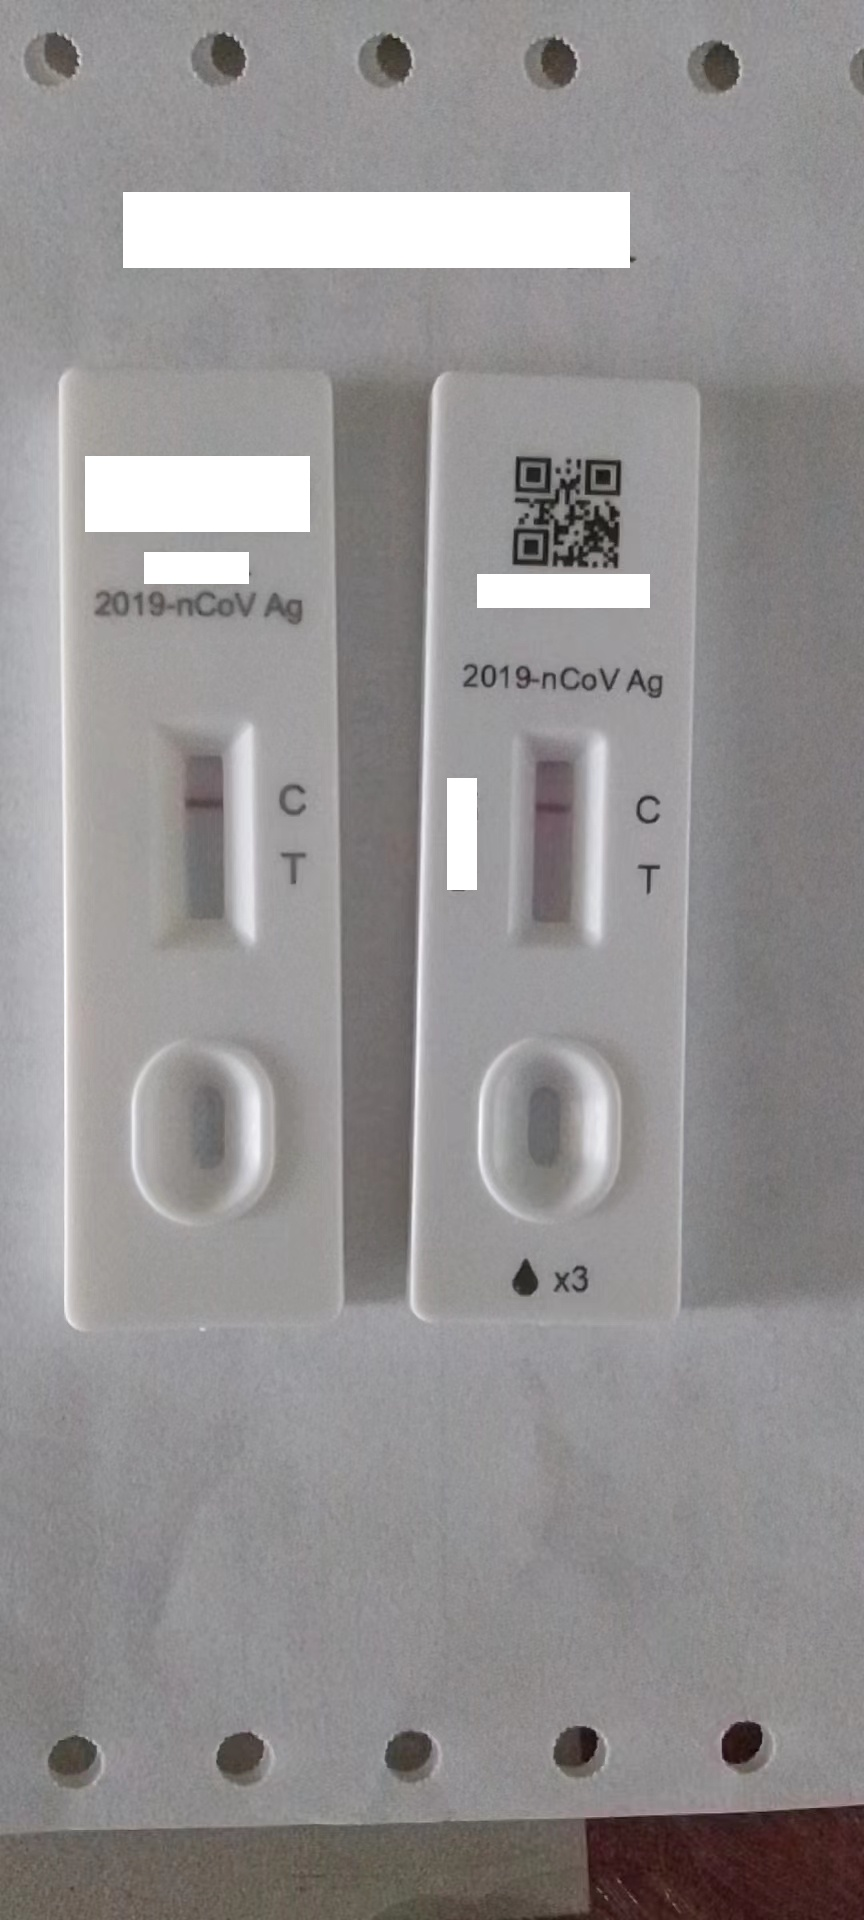negative: (510, 718, 608, 951), (162, 716, 248, 951)
